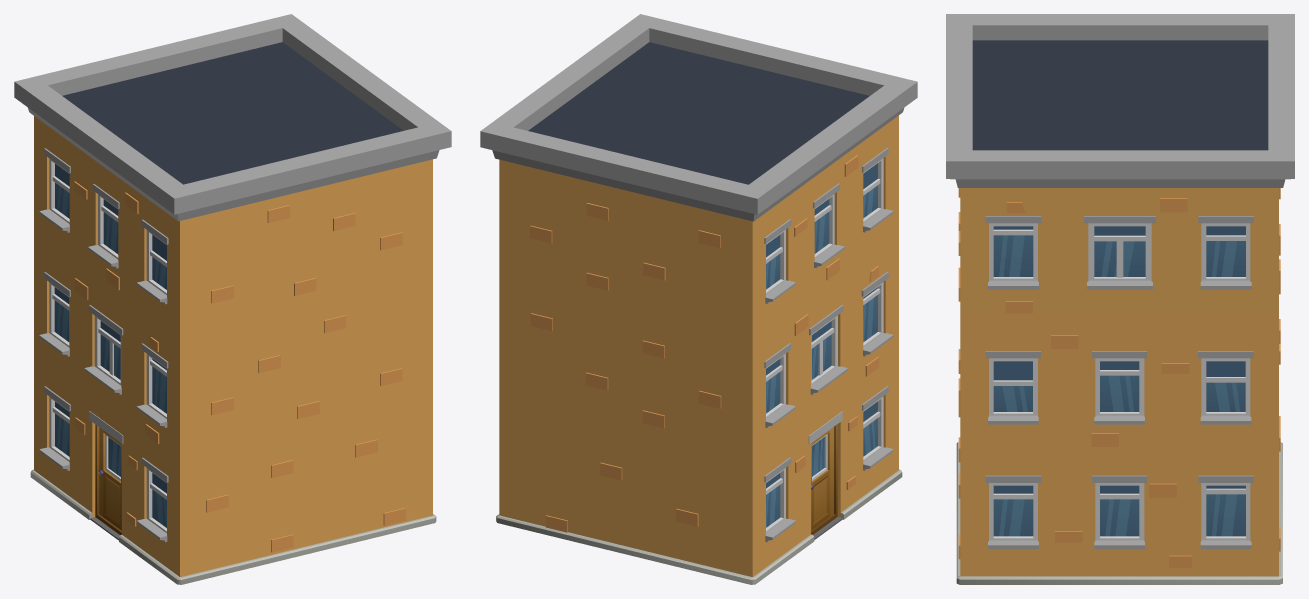
File: Building_2_6_E.fbx
3 views of the same model, side by side, from view 1: azimuth 30°, elevation 25°; view 2: azimuth 150°, elevation 25°; view 3: azimuth 270°, elevation 25° (orthographic). The views are drawn at different scales.
Parts seen in each view (by area): view 1: Building_2_6_E; view 2: Building_2_6_E; view 3: Building_2_6_E.
Boxes of the visible parts, x1=… form: Building_2_6_E: x1=14, y1=14, x2=451, y2=584; Building_2_6_E: x1=480, y1=14, x2=917, y2=584; Building_2_6_E: x1=946, y1=14, x2=1294, y2=584.
Bounding box in the file's own units: 620 × 840 × 620.
